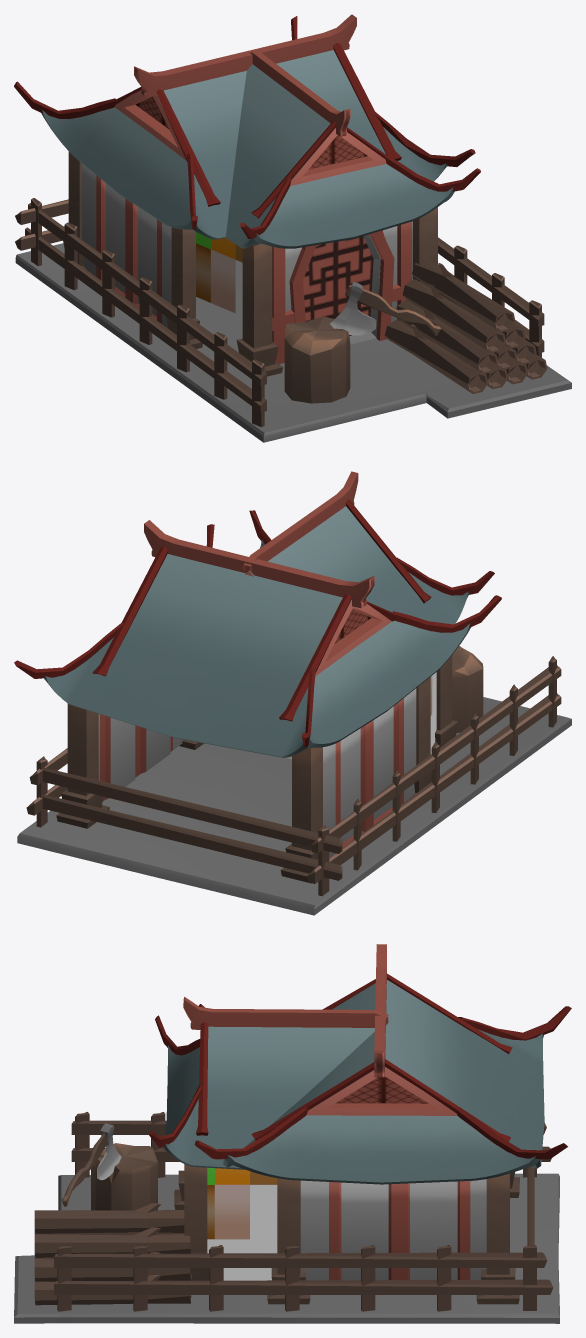
Rendered from Sawmill_3lvl.fbx.
3 renders of one model, top to bottom at view 1: azimuth 30°, elevation 25°; view 2: azimuth 150°, elevation 25°; view 3: azimuth 270°, elevation 25°, orthographic. The views are drawn at different scales.
Visible parts, largest first — view 1: Sawmill_3lvl; view 2: Sawmill_3lvl; view 3: Sawmill_3lvl.
Boxes of the visible parts, x1=… form: Sawmill_3lvl: x1=14, y1=14, x2=571, y2=442; Sawmill_3lvl: x1=14, y1=471, x2=571, y2=915; Sawmill_3lvl: x1=14, y1=944, x2=571, y2=1323.
Bounding box in the file's own units: 4.17 × 3.38 × 6.61.
1 material, 1 textured.
